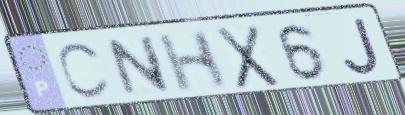6: (276, 21, 329, 82)
C: (55, 40, 114, 102)
H: (154, 27, 231, 96)
J: (341, 16, 384, 77)
N: (104, 33, 174, 100)
X: (212, 22, 283, 92)
